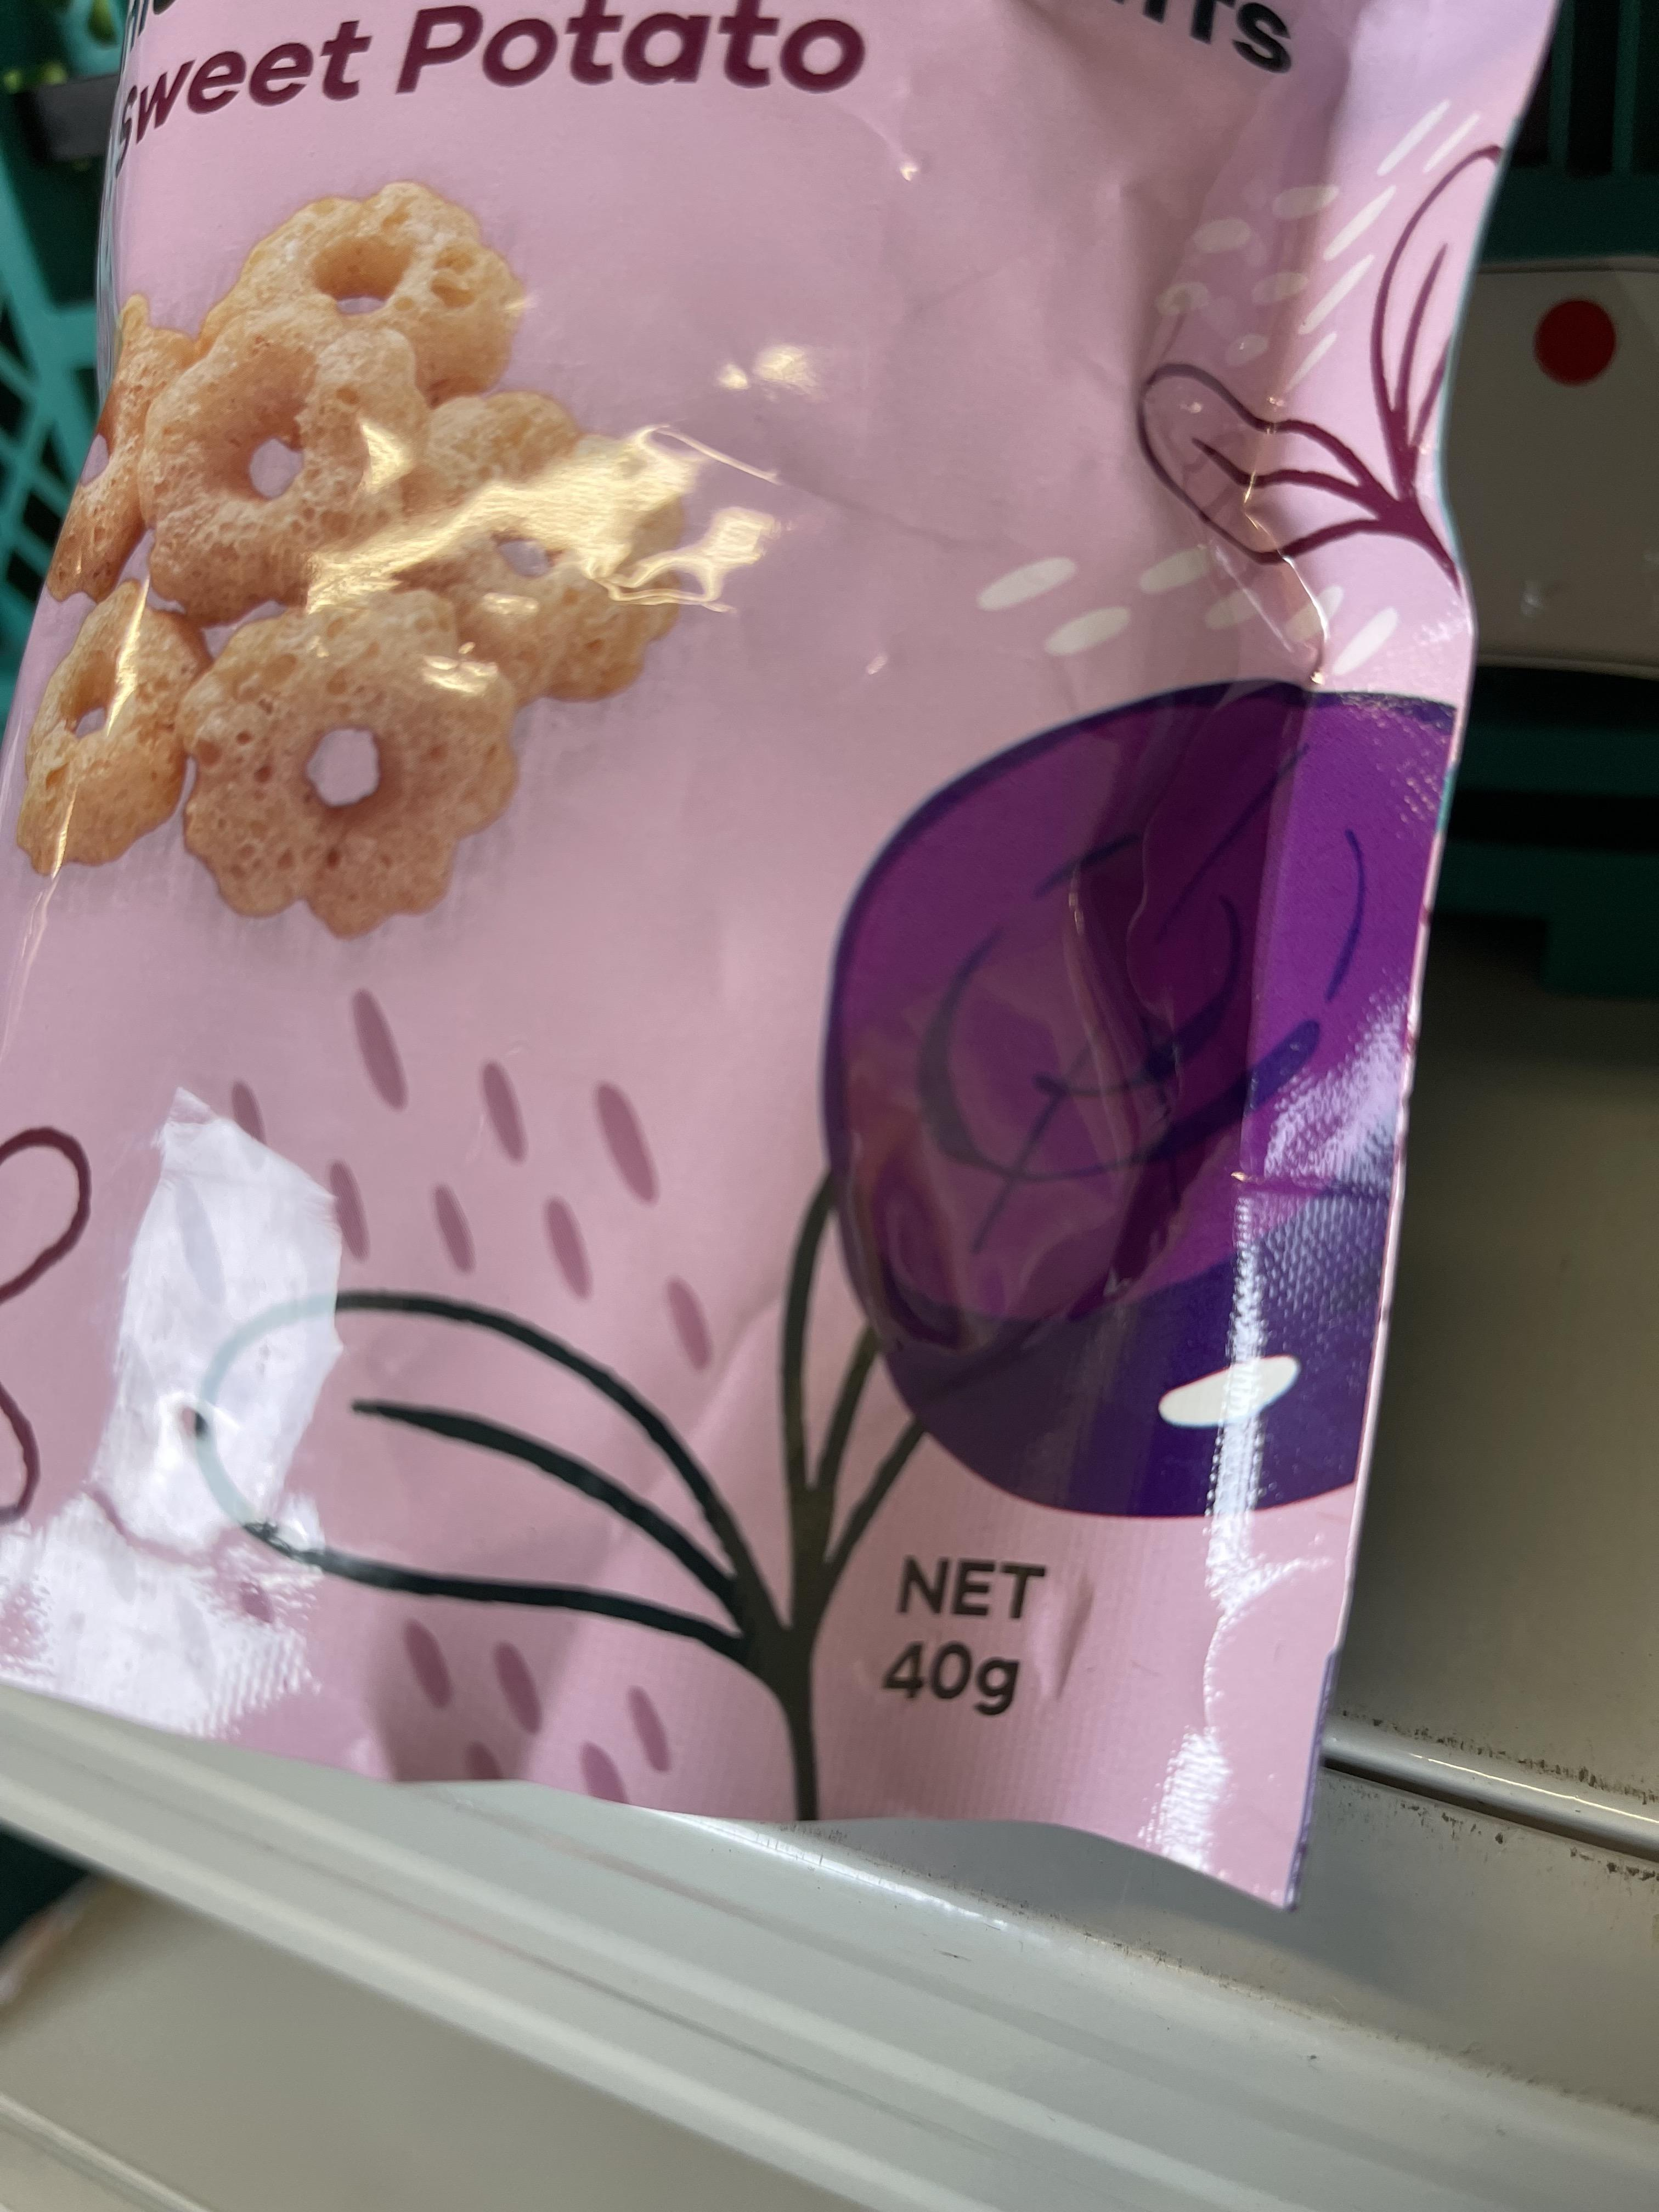object_name: (132, 0, 1295, 1822)
